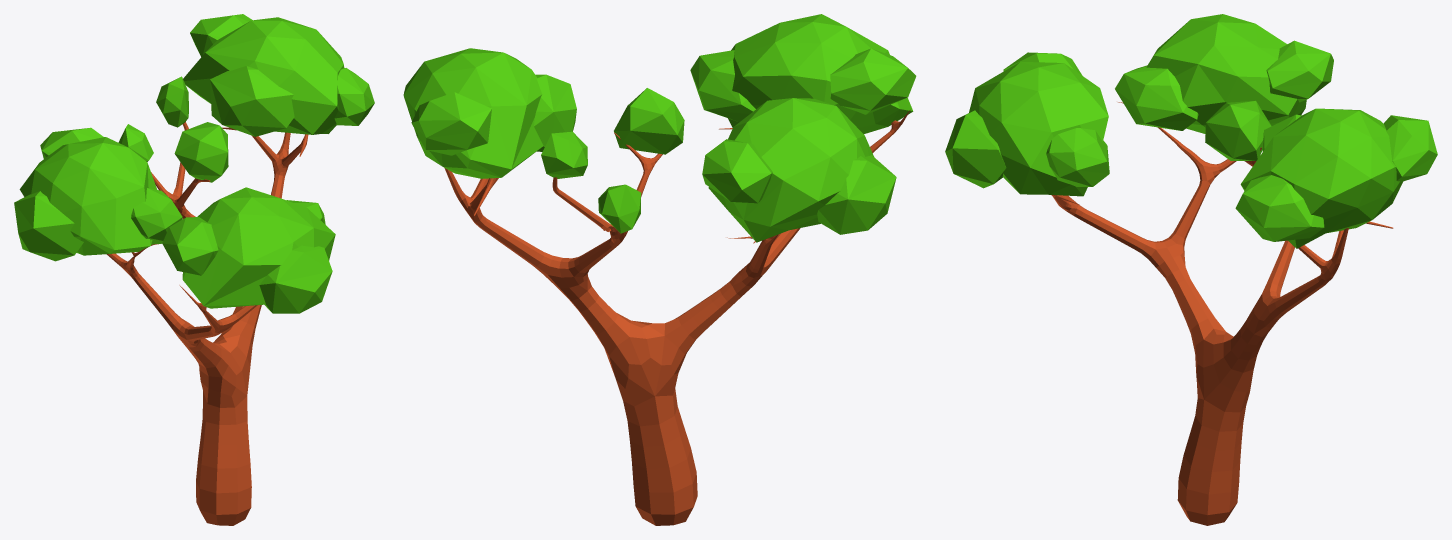
The model's file is tree.obj.
The picture shows the model from 3 angles, left to right: view 1: azimuth 30°, elevation 25°; view 2: azimuth 150°, elevation 25°; view 3: azimuth 270°, elevation 25°; orthographic projection. The views are drawn at different scales.
Visible parts, largest first — view 1: Cube, Icosphere.003, Icosphere.012, Icosphere.010, Icosphere.009, Icosphere.004, Icosphere.002, Icosphere.011, Icosphere.005, Icosphere, Icosphere.007, Icosphere.008 (+3 smaller); view 2: Cube, Icosphere.012, Icosphere.010, Icosphere.003, Icosphere.005, Icosphere.002, Icosphere.008, Icosphere.011, Icosphere.001, Icosphere.006, Icosphere.009, Icosphere.014 (+1 smaller); view 3: Cube, Icosphere.010, Icosphere.003, Icosphere.012, Icosphere.007, Icosphere, Icosphere.004, Icosphere.011, Icosphere.006, Icosphere.001, Icosphere.008, Icosphere.005.
Part boxes in pixels (<box>): Cube: <box>107,122,308,525</box>; Icosphere.003: <box>182,187,335,308</box>; Icosphere.012: <box>19,137,157,255</box>; Icosphere.010: <box>183,17,344,134</box>; Icosphere.009: <box>210,65,294,136</box>; Icosphere.004: <box>259,245,332,313</box>; Icosphere.002: <box>14,191,83,261</box>; Icosphere.011: <box>174,122,228,182</box>; Icosphere.005: <box>162,217,218,275</box>; Icosphere: <box>131,188,182,244</box>; Icosphere.007: <box>334,68,374,125</box>; Icosphere.008: <box>190,14,252,56</box>; Cube: <box>444,110,910,525</box>; Icosphere.012: <box>708,98,873,242</box>; Icosphere.010: <box>403,48,543,178</box>; Icosphere.003: <box>728,14,913,133</box>; Icosphere.005: <box>830,48,916,114</box>; Icosphere.002: <box>817,155,896,234</box>; Icosphere.008: <box>411,92,491,155</box>; Icosphere.011: <box>614,88,684,154</box>; Icosphere.001: <box>702,139,772,203</box>; Icosphere.006: <box>690,50,755,121</box>; Icosphere.009: <box>534,74,576,151</box>; Icosphere.014: <box>541,131,587,178</box>; Cube: <box>1051,102,1393,525</box>; Icosphere.010: <box>1240,108,1403,248</box>; Icosphere.003: <box>969,61,1108,196</box>; Icosphere.012: <box>1146,14,1306,133</box>; Icosphere.007: <box>1235,175,1324,241</box>; Icosphere: <box>1115,65,1198,130</box>; Icosphere.004: <box>945,110,1006,188</box>; Icosphere.011: <box>1205,100,1271,160</box>; Icosphere.006: <box>1046,128,1109,186</box>; Icosphere.001: <box>1266,40,1333,102</box>; Icosphere.008: <box>1383,115,1437,182</box>; Icosphere.005: <box>1003,52,1082,75</box>.
Size of the model in its own units: 7.55 by 8.23 by 7.93.
